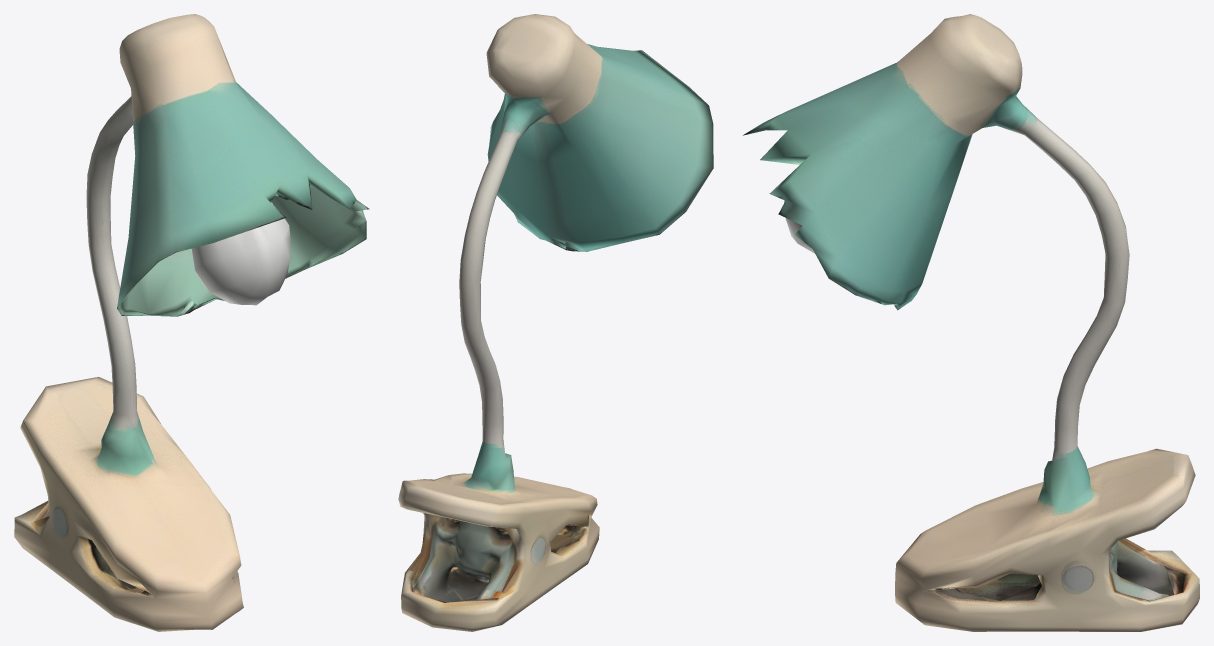
Rendered from lamp_clip.glb.
3 views of the same model, side by side, from view 1: azimuth 30°, elevation 25°; view 2: azimuth 150°, elevation 25°; view 3: azimuth 270°, elevation 25° (orthographic). The views are drawn at different scales.
Bounding box in the file's own units: 0.861 × 2 × 1.42.
1 material, 1 textured.
